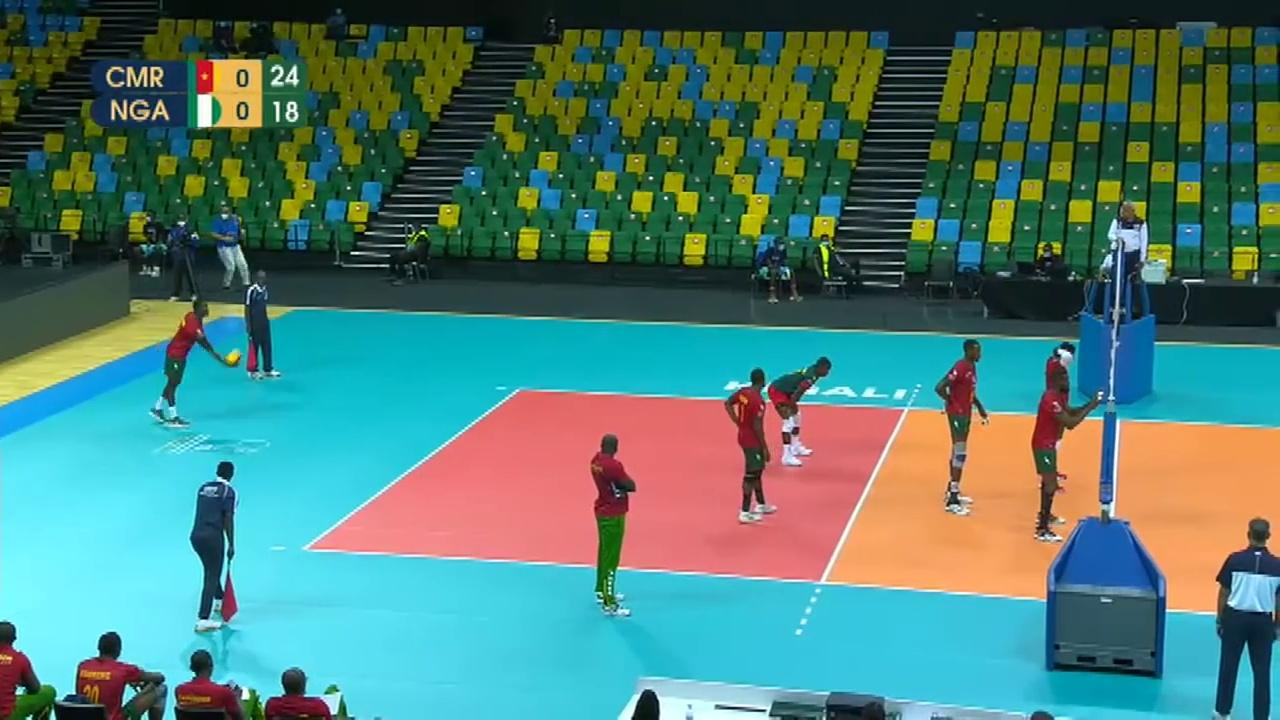player: (145, 286, 235, 438), (1036, 371, 1104, 551), (934, 341, 989, 511), (723, 368, 773, 521), (769, 354, 834, 469), (1038, 341, 1076, 494)
refree: (1212, 519, 1278, 719), (189, 463, 243, 622), (1100, 194, 1150, 316), (241, 270, 275, 376)
